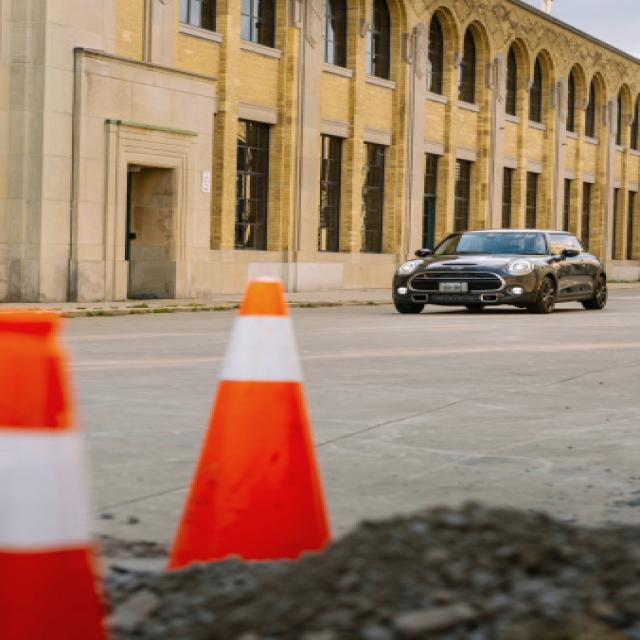cone: (164, 275, 333, 573), (0, 311, 110, 640)
